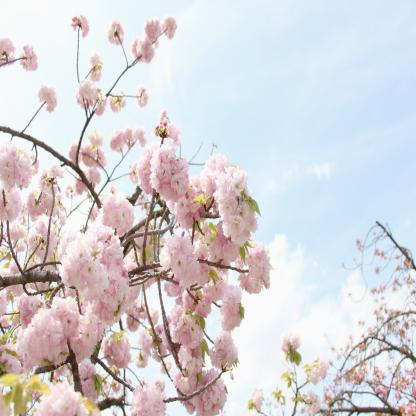YaeSakura: (0, 14, 267, 415), (251, 217, 416, 416)
